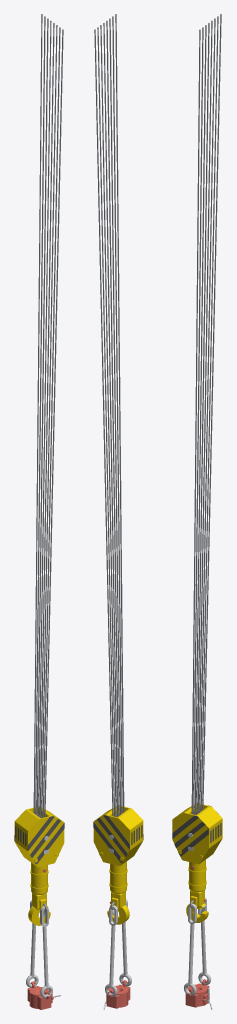
The model's file is sk575_aparejo.glb.
3 renders of one model, left to right at view 1: azimuth 30°, elevation 25°; view 2: azimuth 150°, elevation 25°; view 3: azimuth 330°, elevation 25°, orthographic.
Parts seen in each view (by area): view 1: sk575_aparejo_cable, sk575_aparejo_amarillo, sk575_aparejo_acero, sk575_aparejo_goma, sk575_aparejo_rojo; view 2: sk575_aparejo_cable, sk575_aparejo_amarillo, sk575_aparejo_acero, sk575_aparejo_goma, sk575_aparejo_rojo; view 3: sk575_aparejo_cable, sk575_aparejo_amarillo, sk575_aparejo_acero, sk575_aparejo_goma, sk575_aparejo_rojo.
Boxes of the visible parts, <box> form: sk575_aparejo_cable: <box>33,14,63,818</box>; sk575_aparejo_amarillo: <box>14,807,64,925</box>; sk575_aparejo_acero: <box>26,836,60,998</box>; sk575_aparejo_goma: <box>14,816,64,864</box>; sk575_aparejo_rojo: <box>27,869,53,1009</box>; sk575_aparejo_cable: <box>94,14,124,816</box>; sk575_aparejo_amarillo: <box>93,806,143,924</box>; sk575_aparejo_acero: <box>105,835,131,1003</box>; sk575_aparejo_goma: <box>93,815,143,863</box>; sk575_aparejo_rojo: <box>106,901,130,1008</box>; sk575_aparejo_cable: <box>191,14,221,814</box>; sk575_aparejo_amarillo: <box>172,803,222,922</box>; sk575_aparejo_acero: <box>184,833,211,1003</box>; sk575_aparejo_goma: <box>172,805,221,856</box>; sk575_aparejo_rojo: <box>185,866,209,1007</box>.
Bounding box in the file's own units: 0.858 × 21.76 × 0.8663.
